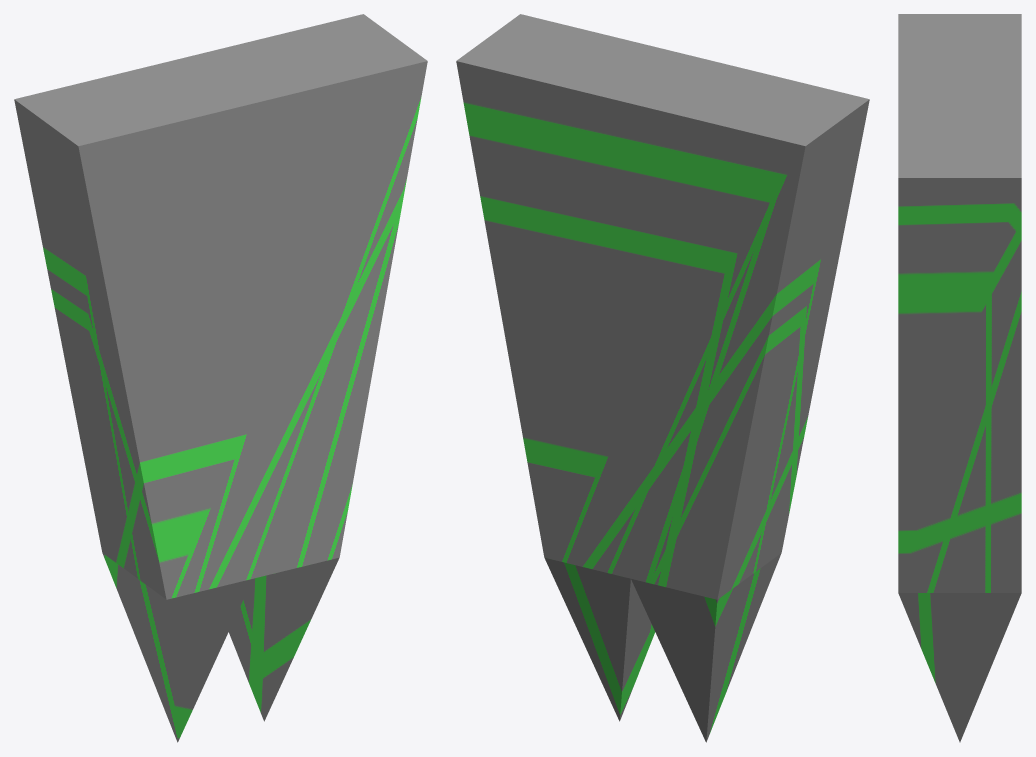
File: Player.obj
3 renders of one model, left to right at view 1: azimuth 30°, elevation 25°; view 2: azimuth 150°, elevation 25°; view 3: azimuth 270°, elevation 25°, orthographic. The views are drawn at different scales.
Visible parts, largest first — view 1: Cube.001; view 2: Cube.001; view 3: Cube.001.
Part boxes in pixels (x1=…): Cube.001: x1=14, y1=14, x2=427, y2=742; Cube.001: x1=456, y1=14, x2=869, y2=742; Cube.001: x1=898, y1=14, x2=1021, y2=742.
Size of the model in its own units: 0.8073 by 1.44 by 0.2571.
